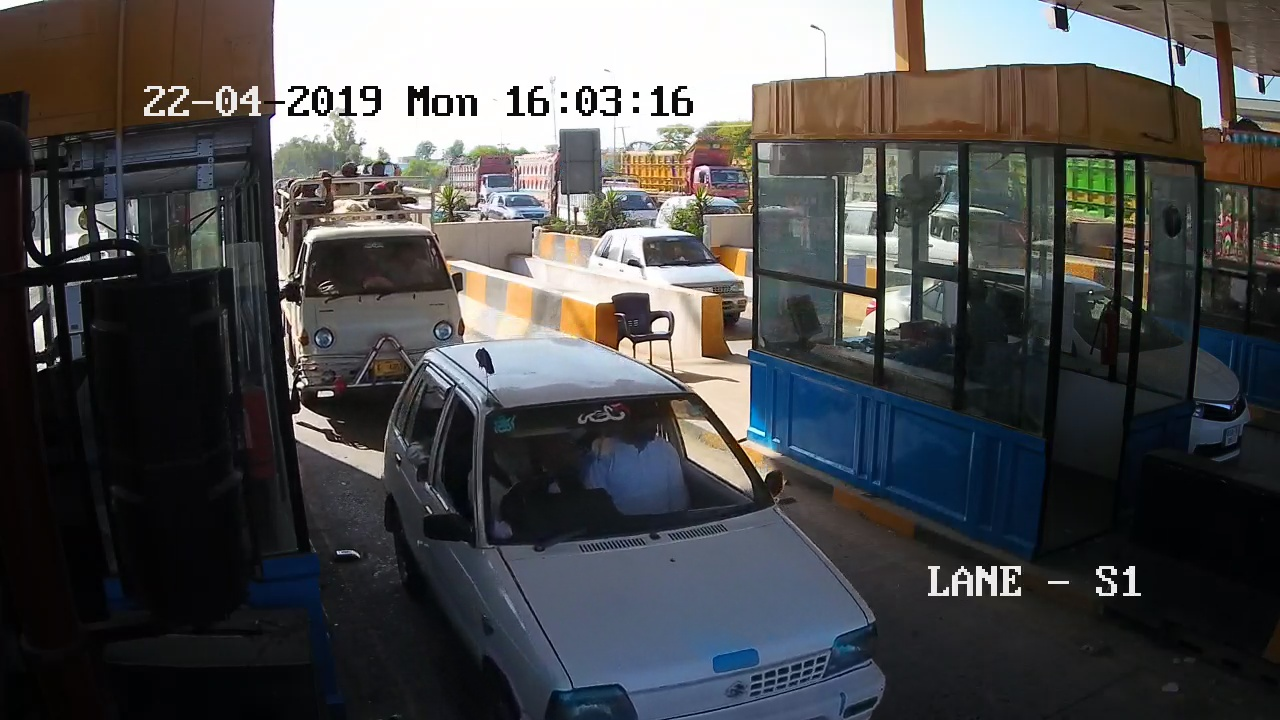Number Plate (Car): (375, 360, 404, 375)
